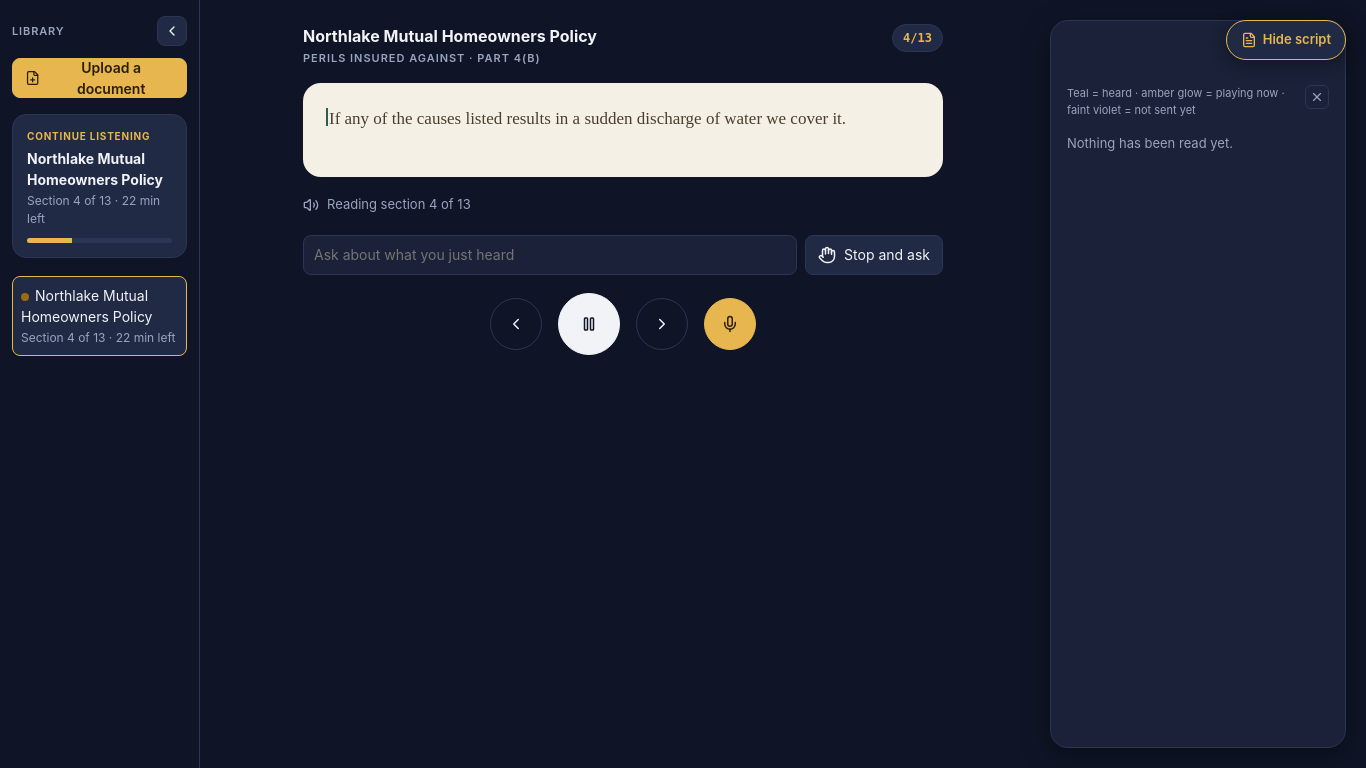
Scenario: listener route › Enter while playing sends the interrupt sequence before the question
This screenshot has width=1366, height=768.
Expected: the text "Reading section 4 of 13" is shown, [303, 196, 471, 213]
Step 1. Type "what does that mean" into the field labelled "Ask about what you just heard" → (550, 255), box [303, 235, 797, 275]
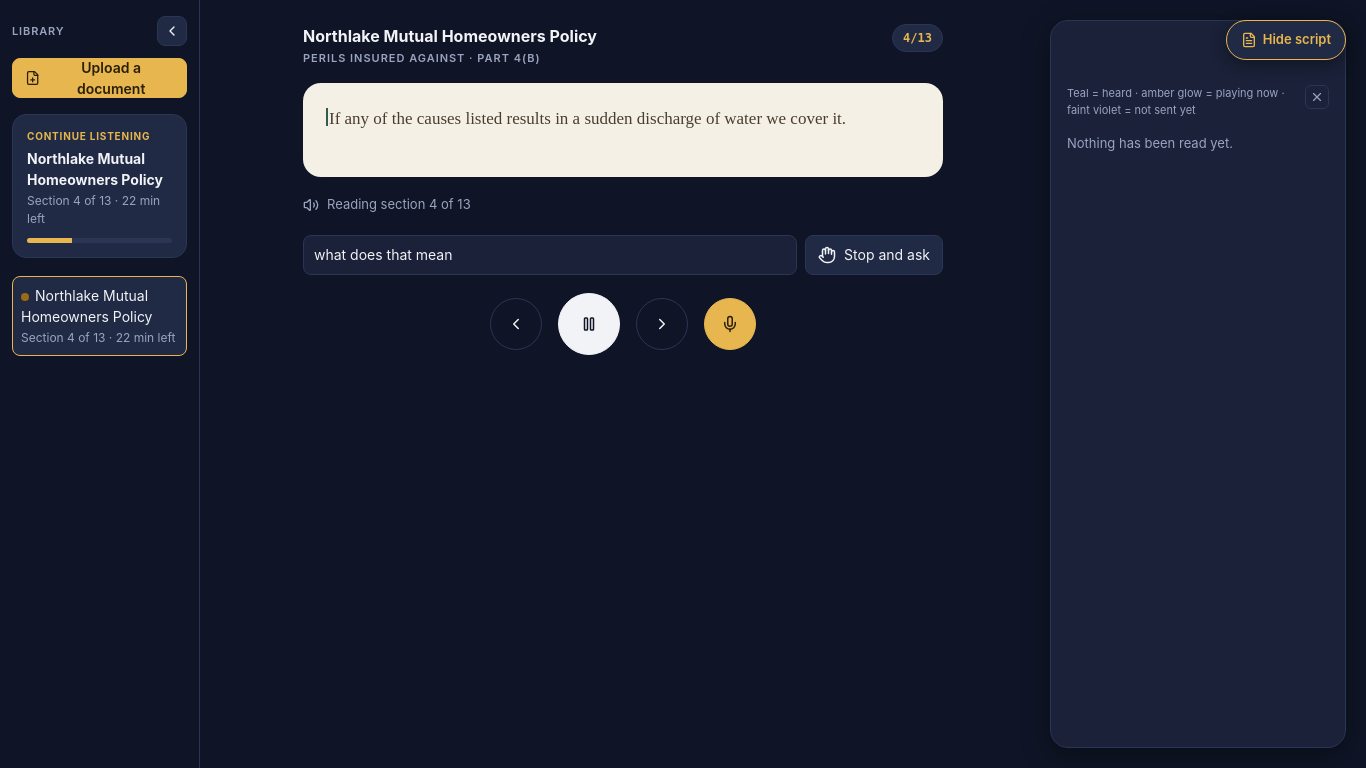
Step 2. Submit the form named "Ask about what you just heard", box [303, 235, 943, 275]
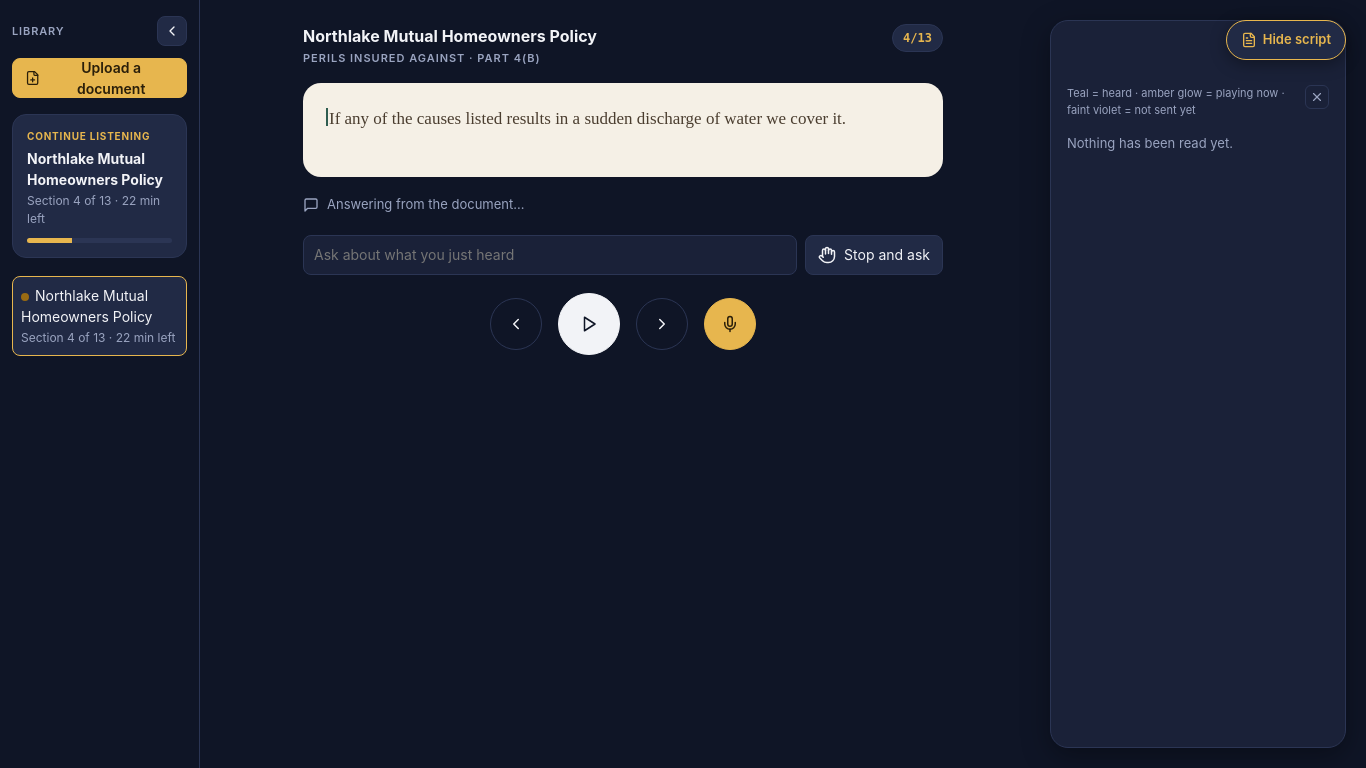
Now the text "Answering from the document…" is shown, box [303, 196, 524, 213]
